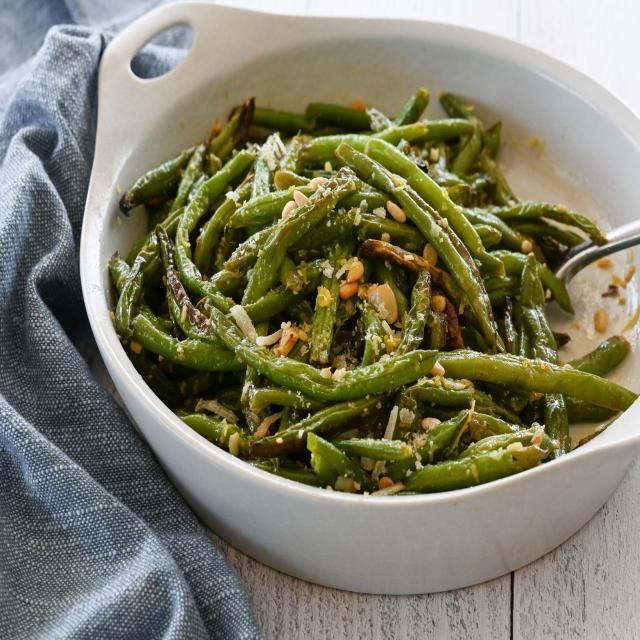Beans: (113, 87, 639, 508)
